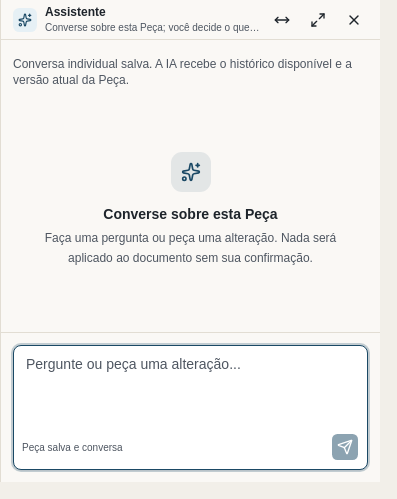
Scenario: AssistantPanel › preserva a mensagem após erro recuperável
The image size is (397, 499).
Type "Revise a fundamentação considerando o documento ainda não juntado." into the text box named "O que você quer que a IA faça?" at (190, 386), box [14,346,367,426]
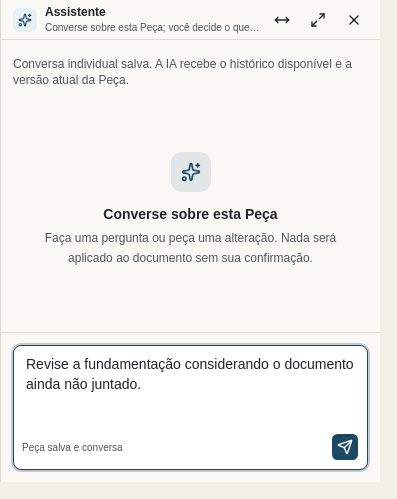
Click the button named "Enviar para IA" at (345, 447), box [331,433,359,461]
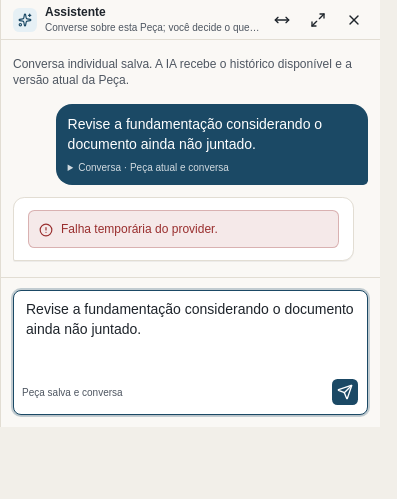
Now the message reads "Falha temporária do provider.", box [61,222,218,236]
